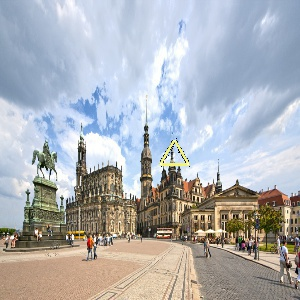triangle: (158, 137, 192, 169)
